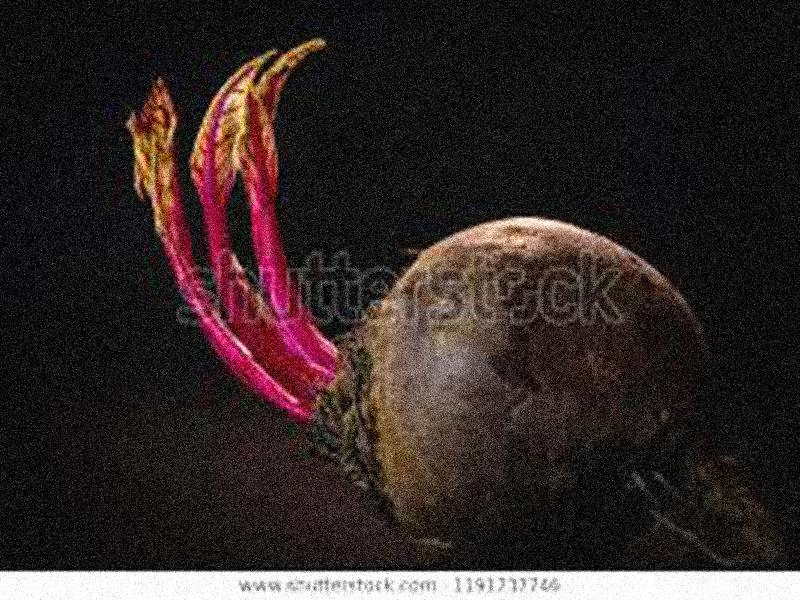Beet: (128, 38, 800, 568)
